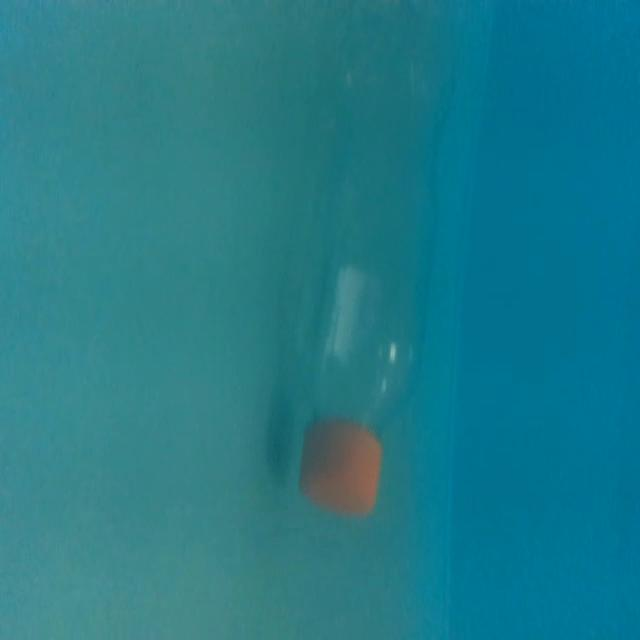plastic bottle: (297, 12, 446, 520)
